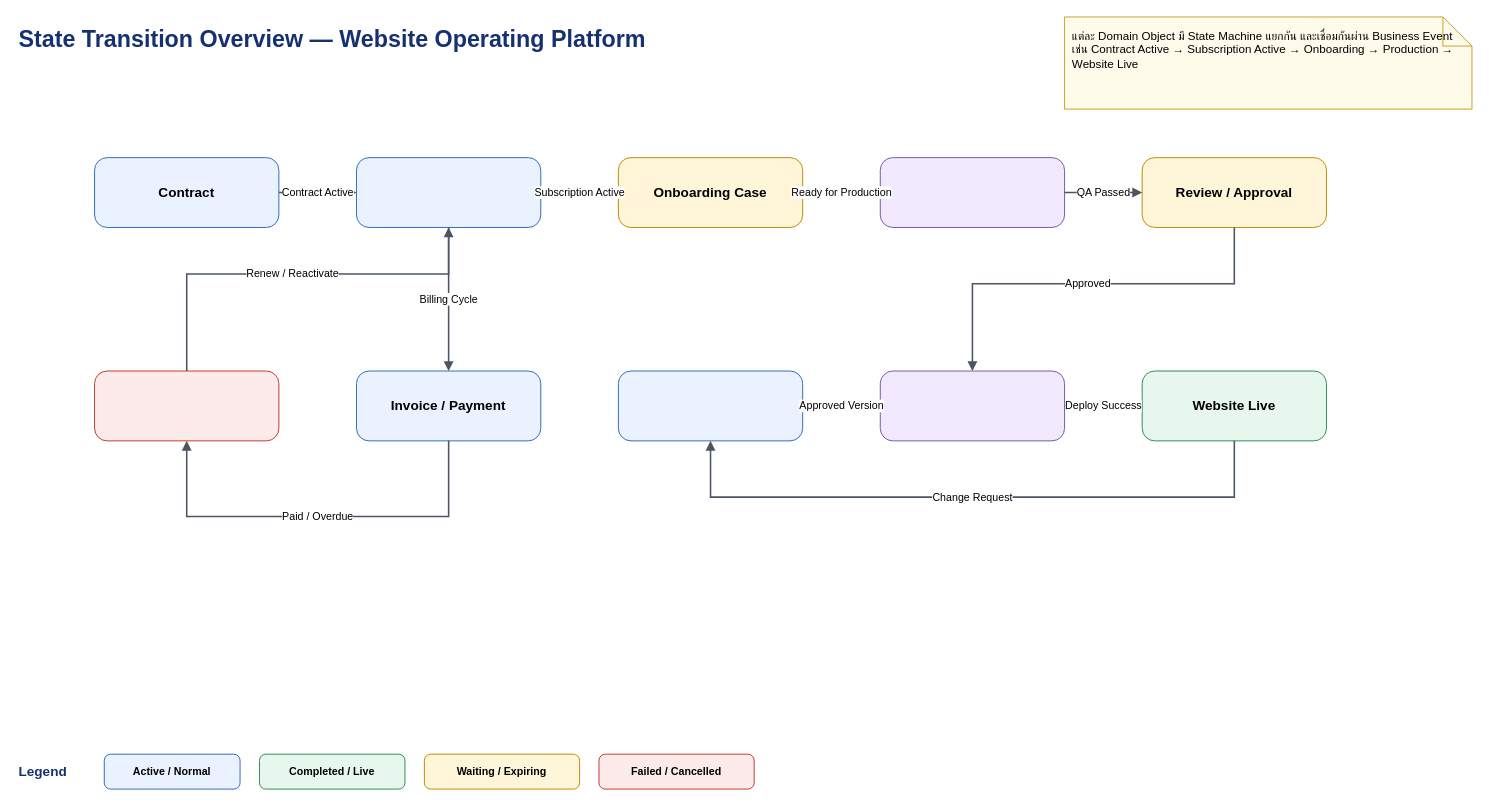
Some shapes in this 1489 by 806 pixel diagram are drawn without their labels. Each missing label, with the box of its shape:
Deployment: (879, 370, 1065, 441)
Production Job: (879, 157, 1065, 227)
Renewal / Churn: (94, 370, 279, 441)
Subscription: (356, 157, 541, 227)
Support Ticket: (617, 370, 803, 441)
